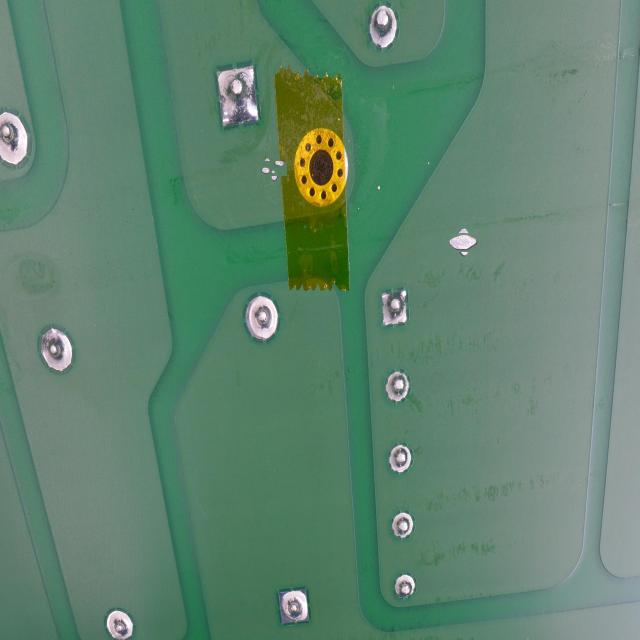spillover: (450, 229, 476, 255), (261, 158, 284, 180)
